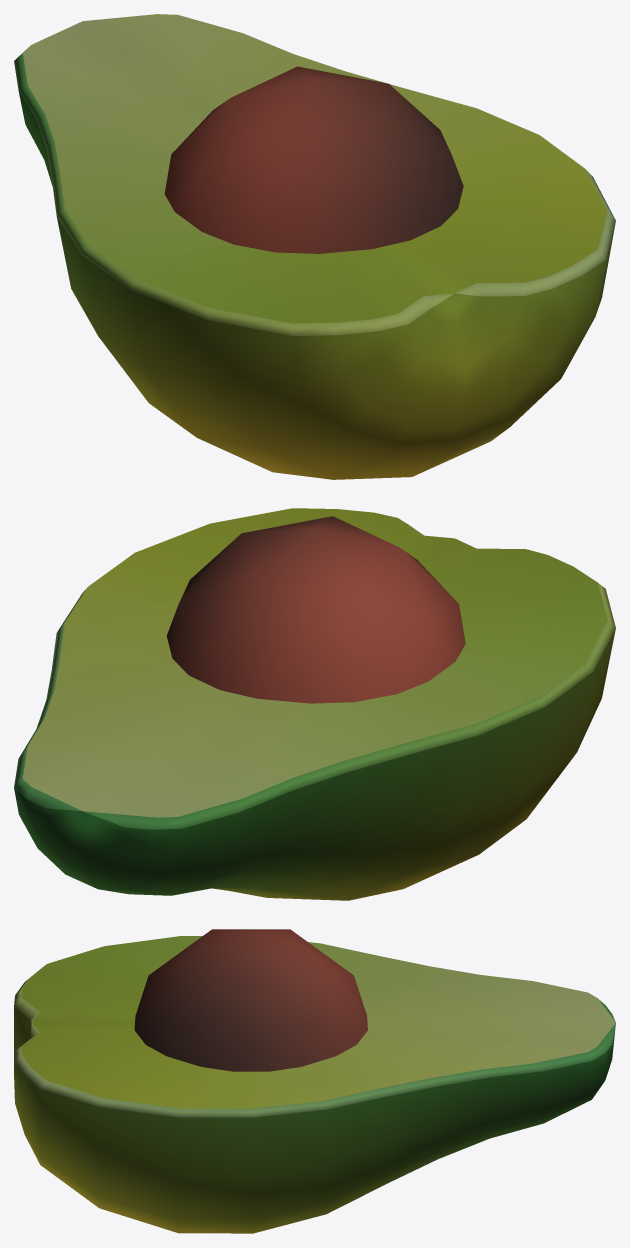
The model's file is Avocado_003.glb.
3 views of the same model, one above another, from view 1: azimuth 30°, elevation 25°; view 2: azimuth 150°, elevation 25°; view 3: azimuth 270°, elevation 25° (orthographic). The views are drawn at different scales.
Parts seen in each view (by area): view 1: geometry_0; view 2: geometry_0; view 3: geometry_0.
Boxes of the visible parts, left/top/right/bottom form: geometry_0: left=14, top=14, right=615, bottom=479; geometry_0: left=14, top=508, right=615, bottom=900; geometry_0: left=14, top=929, right=615, bottom=1233.
Size of the model in its own units: 0.0974 by 0.0714 by 0.1396.
1 material, 1 textured.
